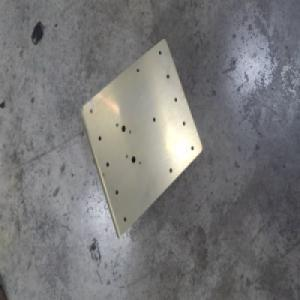MetalSheet: (76, 35, 202, 241)
